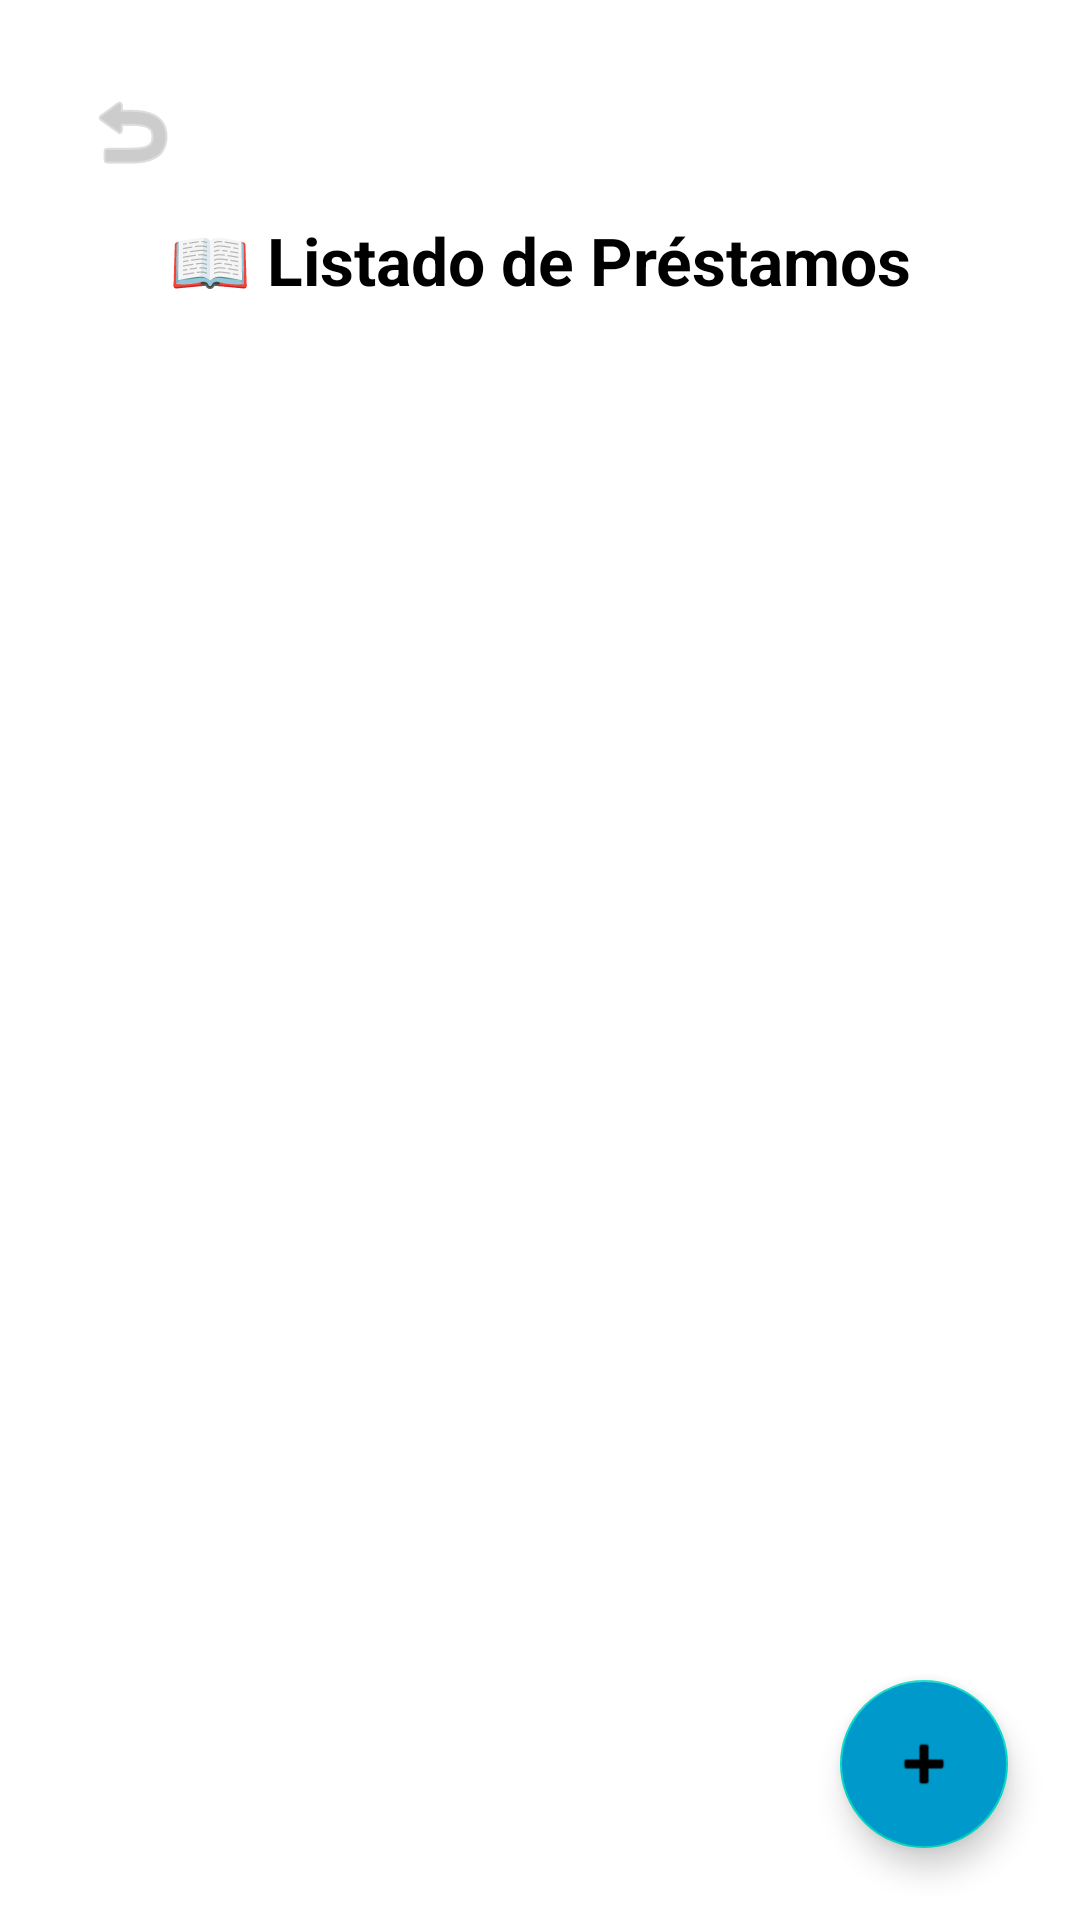

Named icons in this screenshot (1080x1920) and their bounding boxes, (x1,y1,x2,y2):
Agregar préstamo: (840,1680,1008,1848)
Volver: (99,102,167,163)
